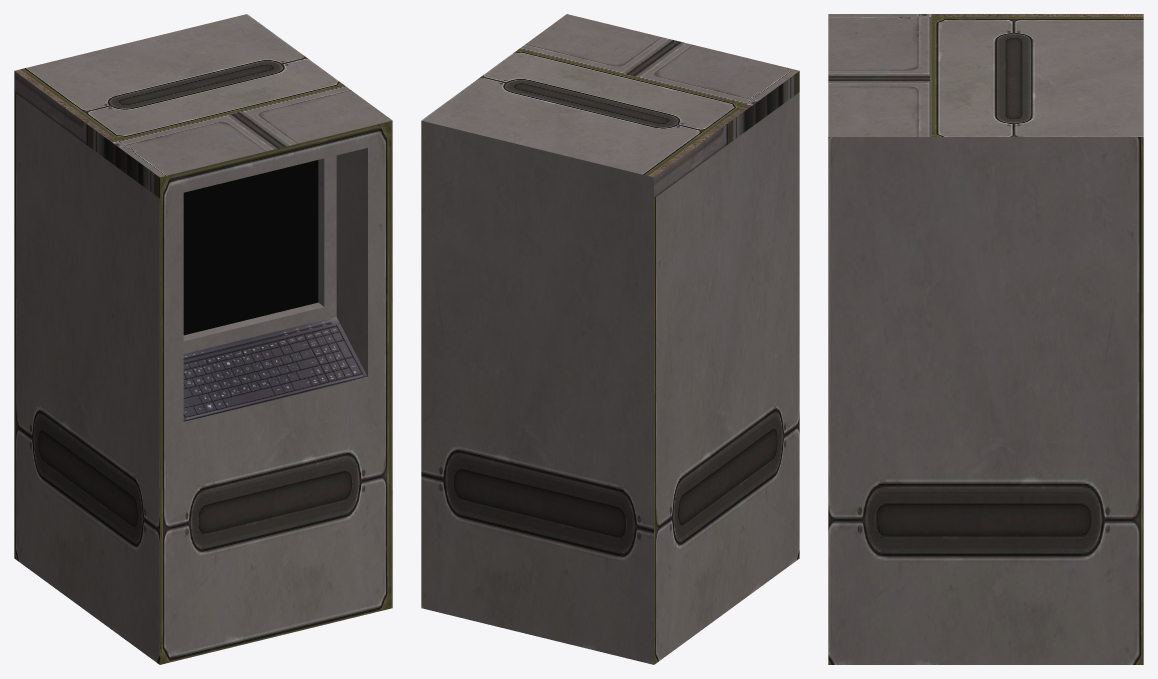
File: Terminal.fbx
3 renders of one model, left to right at view 1: azimuth 30°, elevation 25°; view 2: azimuth 150°, elevation 25°; view 3: azimuth 270°, elevation 25°, orthographic. The views are drawn at different scales.
Visible parts, largest first — view 1: Cube; view 2: Cube; view 3: Cube.
Boxes of the visible parts, x1,y1,x2,y2 form: Cube: (14,14,392,664); Cube: (421,14,799,664); Cube: (828,14,1143,664).
Size of the model in its own units: 400 by 800 by 433.
3 materials, 2 textured.
